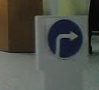right: (41, 17, 88, 61)
